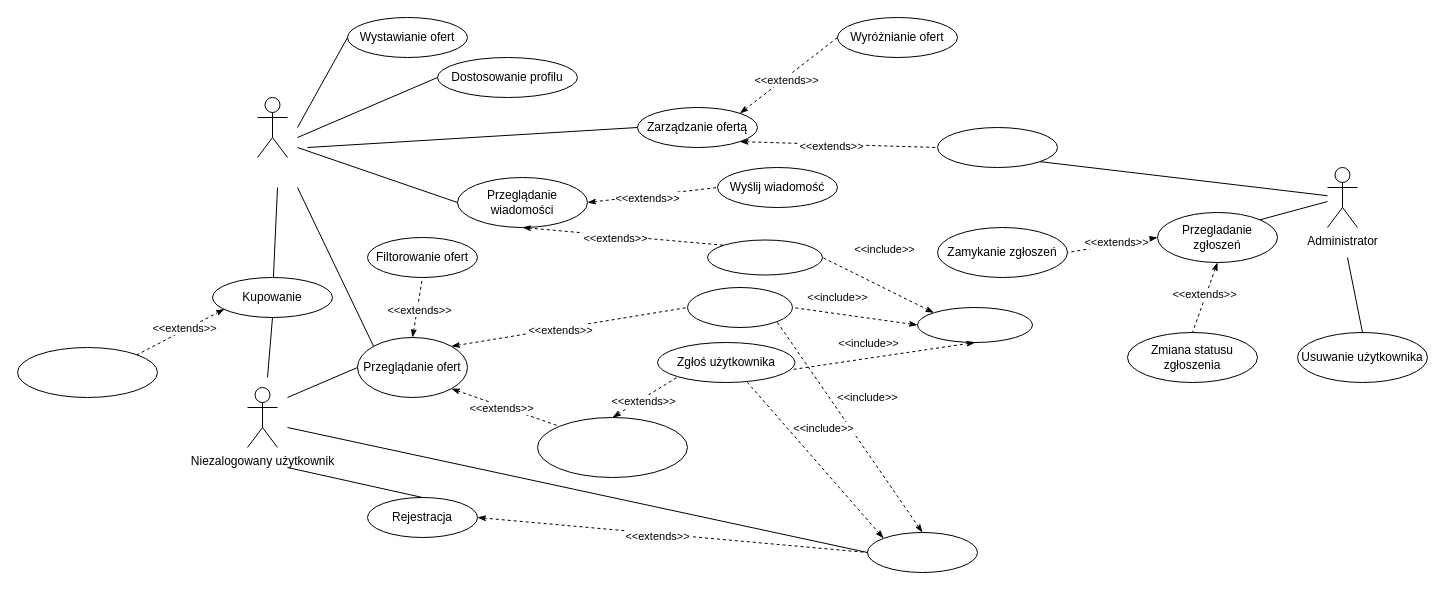
Some shapes in this 1445 by 590 pixel diagram are drawn without their labels. Here are the shapes that lost their labels. From the top down, the box of each, then its label:
(256, 96, 288, 158): Zalogowany użytkownik
(936, 126, 1058, 168): Usuwanie ofert
(706, 239, 822, 275): Zgłoś wiadomość
(686, 286, 792, 328): Zgłoś ofertę
(916, 306, 1032, 342): Utwórz zgłoszenie
(16, 346, 158, 398): Wystawianie recenzji
(536, 416, 688, 478): Przeglądanie profilu (drugiego użytkownika)
(866, 532, 978, 572): Logowanie
